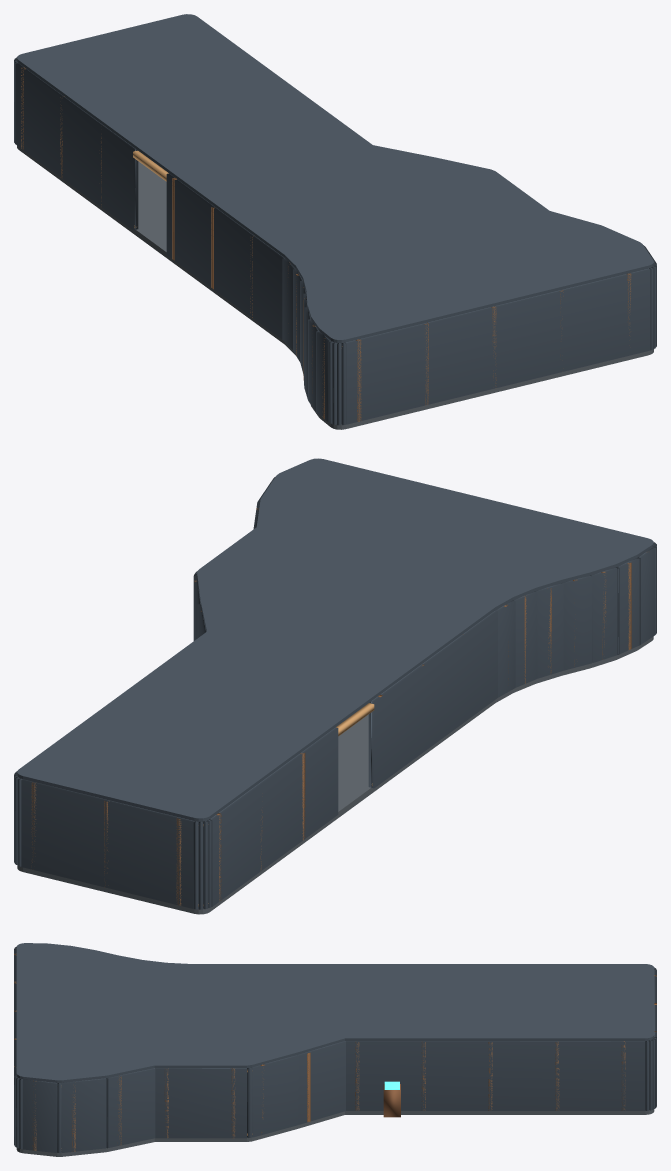
File: Maintenance_Storage.glb
3 views of the same model, one above another, from view 1: azimuth 30°, elevation 25°; view 2: azimuth 150°, elevation 25°; view 3: azimuth 270°, elevation 25° (orthographic). The views are drawn at different scales.
Parts seen in each view (by area): view 1: Ceiling_panel, Wall (×7), Maintenance_Storage_floor; view 2: Ceiling_panel, Wall (×10), Maintenance_Storage_floor; view 3: Ceiling_panel, Wall (×13), Maintenance_Storage_floor, Console_body.
Boxes of the visible parts, x1,y1,x2,y2 form: Ceiling_panel: (17,14,653,343); Wall (×7): (15,63,650,424); Maintenance_Storage_floor: (17,145,653,429); Ceiling_panel: (17,458,653,821); Wall (×10): (21,548,654,908); Maintenance_Storage_floor: (17,636,653,914); Ceiling_panel: (16,943,654,1082); Wall (×13): (14,949,653,1152); Maintenance_Storage_floor: (16,1068,654,1156); Console_body: (383,1084,400,1117).
Size of the model in its own units: 13.88 by 3.55 by 27.02.
